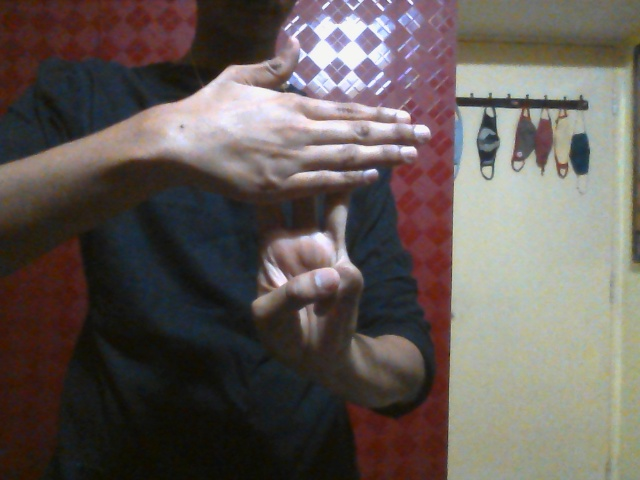M: (184, 32, 433, 356)
